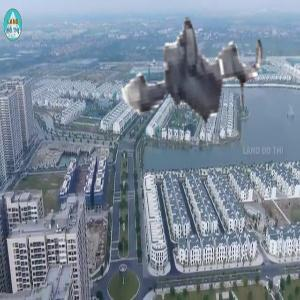drone: (113, 18, 281, 186)
